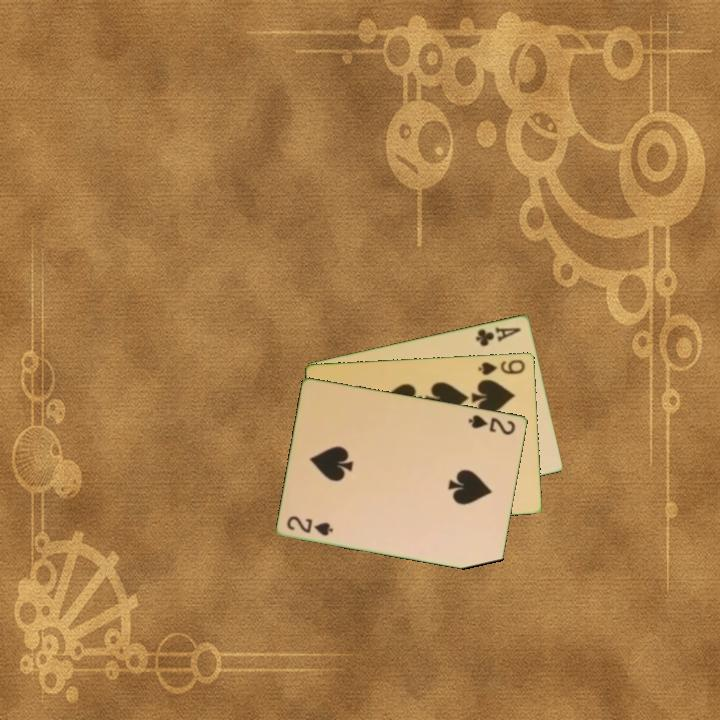2s: (465, 411, 518, 438), (283, 512, 336, 539)
9s: (475, 356, 528, 378)
Ac: (472, 323, 524, 349)
